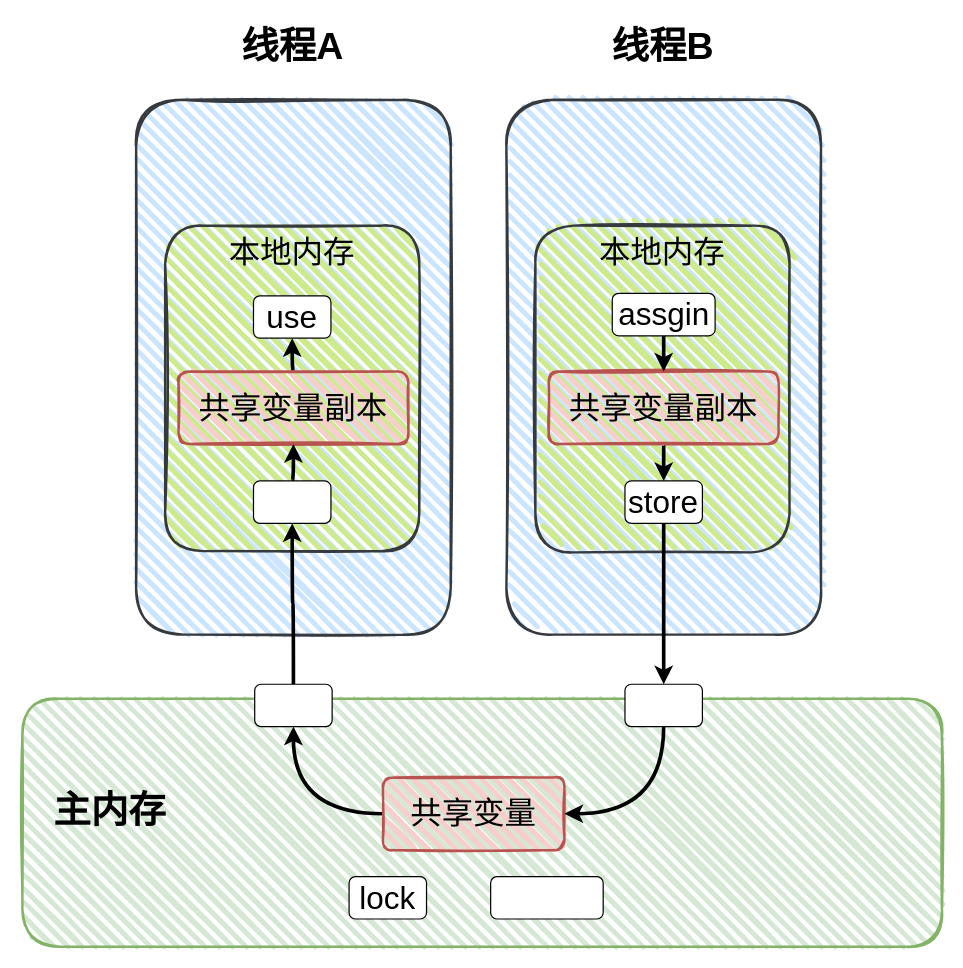
Image size: 963x968. Some labels were removed from this diagram. Here are the shapes that lost their labels. From the top down, the box of each, then its label:
(252, 480, 331, 523): load
(253, 683, 332, 727): read
(624, 683, 702, 727): write
(489, 875, 603, 919): unlock
